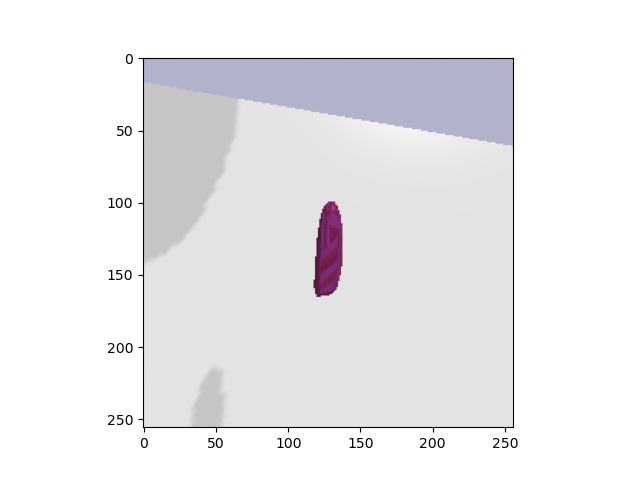v249b387_105: (306, 193, 353, 302)
